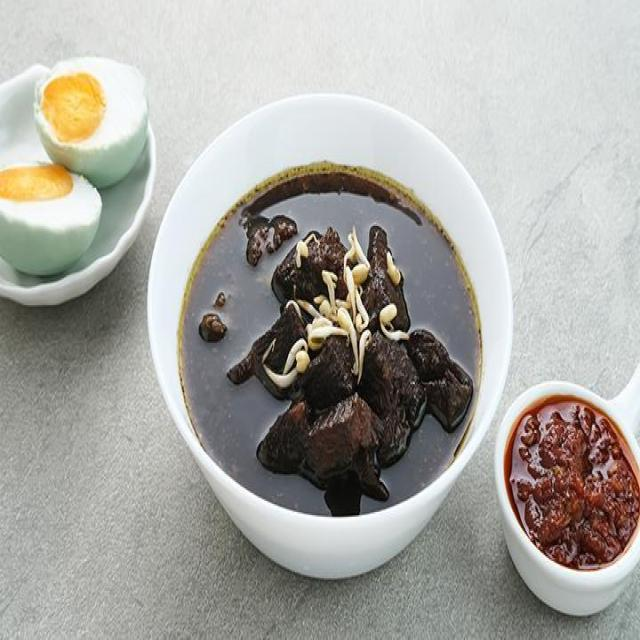Rawon: (184, 173, 476, 502)
